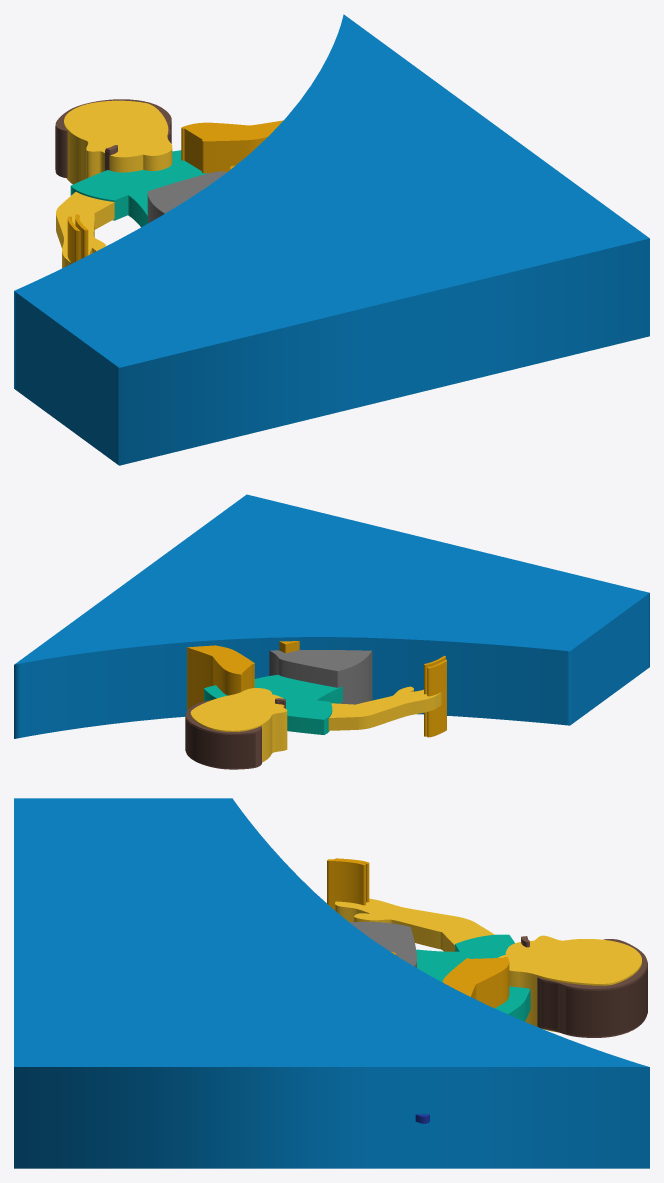
Rendered from emoji_u1f3c4_200d_2642.glb.
3 views of the same model, one above another, from view 1: azimuth 30°, elevation 25°; view 2: azimuth 150°, elevation 25°; view 3: azimuth 270°, elevation 25° (orthographic). The views are drawn at different scales.
Parts seen in each view (by area): view 1: emoji_u1f3c4_200d_2642; view 2: emoji_u1f3c4_200d_2642; view 3: emoji_u1f3c4_200d_2642.
Boxes of the visible parts, x1,y1,x2,y2 form: emoji_u1f3c4_200d_2642: [14, 14, 649, 465]; emoji_u1f3c4_200d_2642: [14, 494, 649, 769]; emoji_u1f3c4_200d_2642: [14, 798, 649, 1168].
Bounding box in the file's own units: 0.0332 × 0.0058 × 0.0329.
